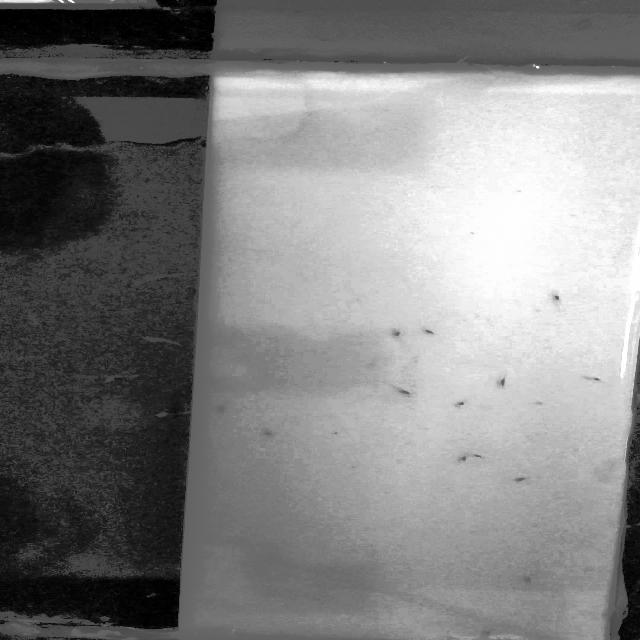shrimp: (514, 573, 547, 592), (488, 371, 513, 393), (542, 290, 569, 308), (207, 402, 233, 417), (389, 386, 416, 399), (453, 396, 472, 412), (450, 453, 470, 468), (508, 473, 534, 484), (478, 627, 499, 640), (580, 376, 610, 385), (384, 328, 408, 338), (423, 328, 444, 338), (470, 451, 486, 464)
